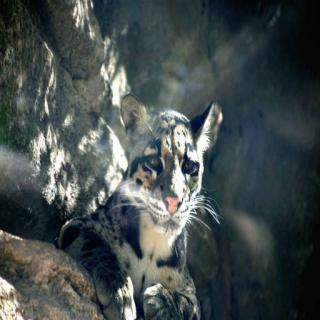Leopard: (32, 79, 244, 304)
